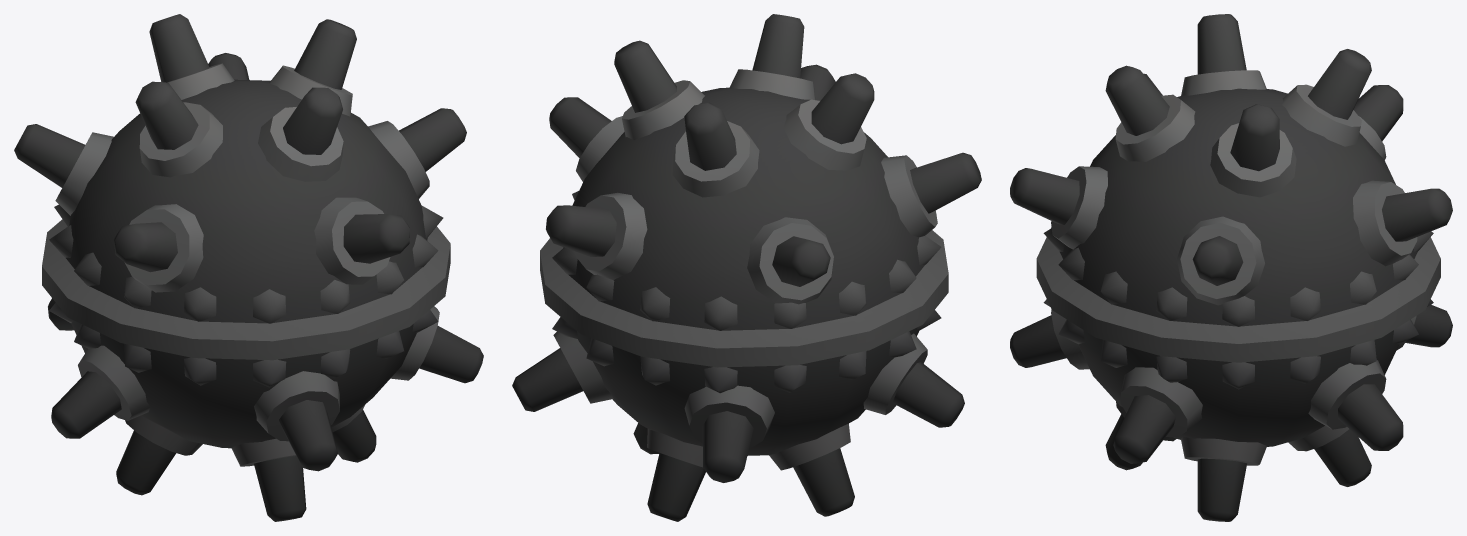
Rendered from depth_bomb_001.fbx.
The picture shows the model from 3 angles, left to right: view 1: azimuth 30°, elevation 25°; view 2: azimuth 150°, elevation 25°; view 3: azimuth 270°, elevation 25°; orthographic projection.
Parts seen in each view (by area): view 1: depth_bomb_001; view 2: depth_bomb_001; view 3: depth_bomb_001.
Part boxes in pixels (x1,y1,x2,y2): depth_bomb_001: [14, 14, 483, 521]; depth_bomb_001: [512, 14, 981, 521]; depth_bomb_001: [1010, 14, 1452, 521].
Bounding box in the file's own units: 599 × 574 × 595.
